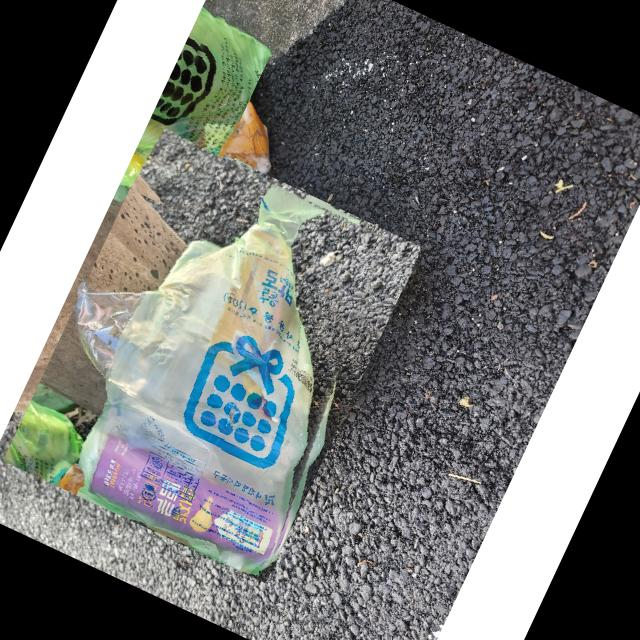general_trashbag: (74, 186, 330, 572), (119, 14, 268, 209)
